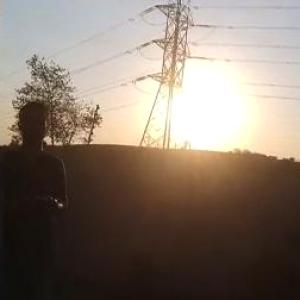follow: (0, 93, 79, 299)
